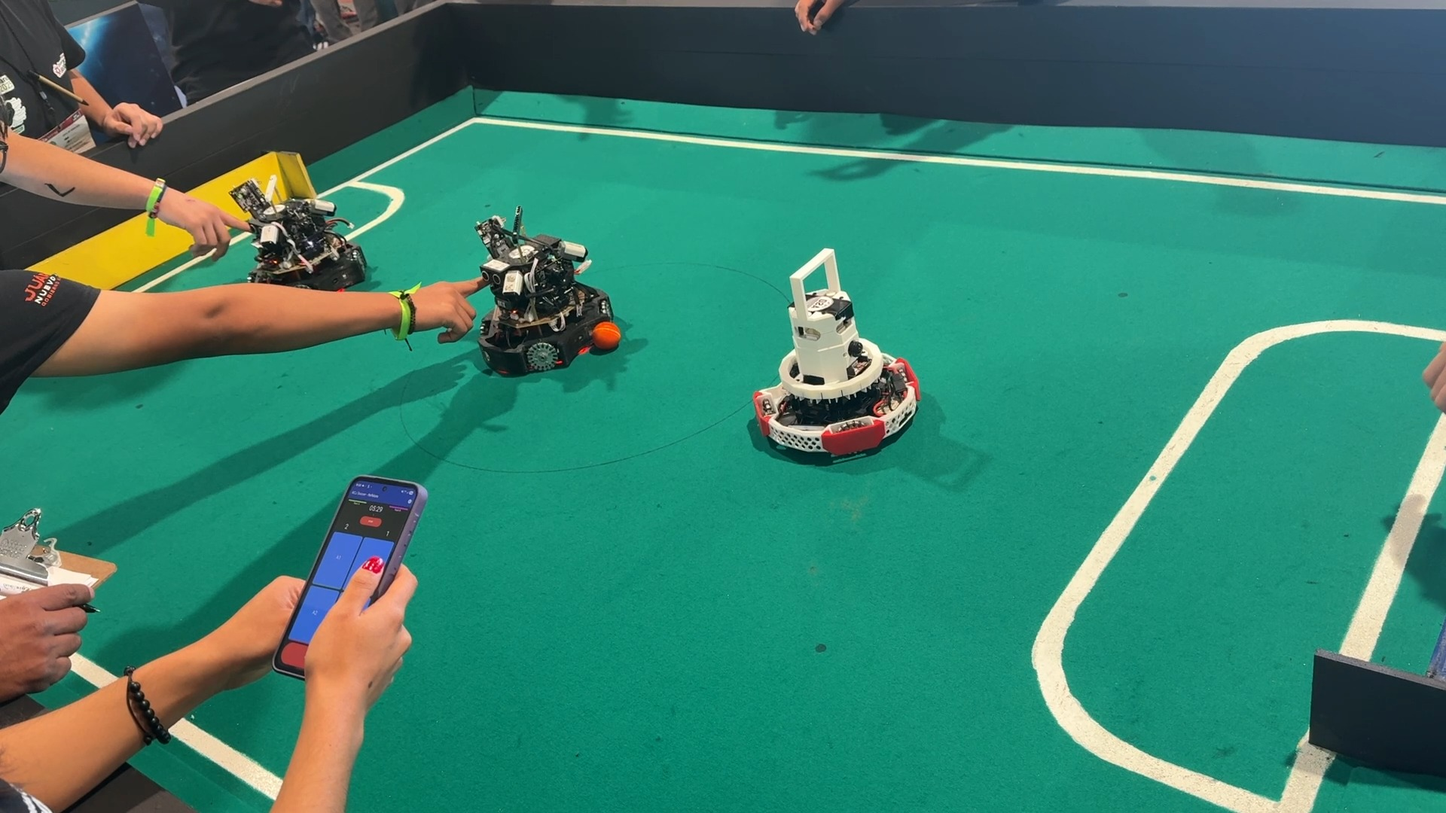Robot: (744, 236, 932, 480), (222, 156, 386, 343), (457, 205, 623, 388)
pelota: (587, 319, 625, 360)
